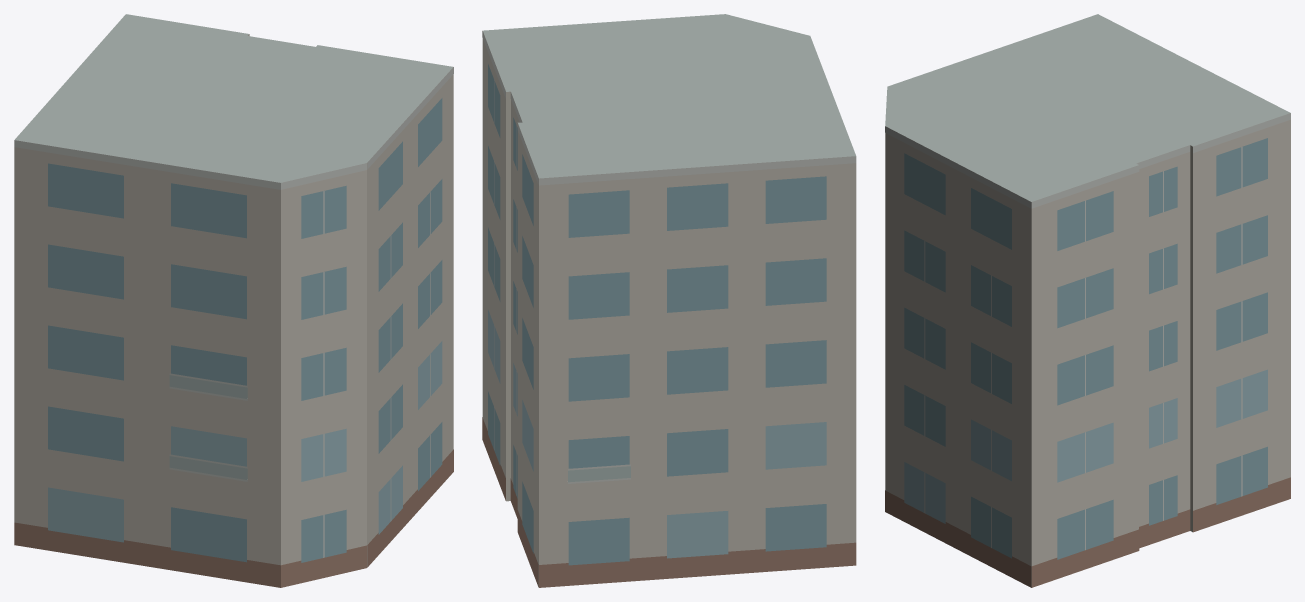
File: survey-upis-32754527.glb
3 views of the same model, side by side, from view 1: azimuth 30°, elevation 25°; view 2: azimuth 150°, elevation 25°; view 3: azimuth 270°, elevation 25° (orthographic). The views are drawn at different scales.
Visible parts, largest first — view 1: survey-upis-32754527.tmp; view 2: survey-upis-32754527.tmp; view 3: survey-upis-32754527.tmp.
Boxes of the visible parts, box(x1,y1,x2,y2) form: survey-upis-32754527.tmp: box(14, 14, 453, 587); survey-upis-32754527.tmp: box(482, 14, 856, 587); survey-upis-32754527.tmp: box(885, 14, 1290, 587).
Bounding box in the file's own units: 14.75 × 14.1 × 13.45.
